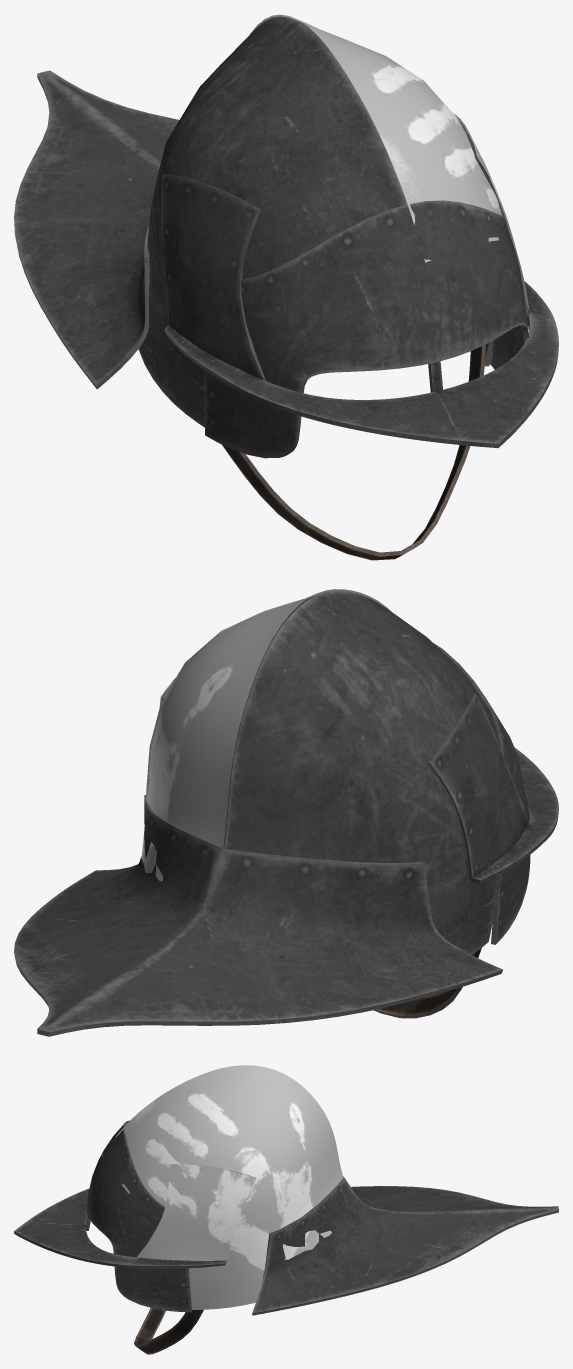
File: sk_uruk_hai_helmet_sapper_a1.fbx
The picture shows the model from 3 angles, top to bottom: view 1: azimuth 30°, elevation 25°; view 2: azimuth 150°, elevation 25°; view 3: azimuth 270°, elevation 25°; orthographic projection. The views are drawn at different scales.
Parts seen in each view (by area): view 1: sk_uruk_hai_helmet_sapper_a1.2, sk_uruk_hai_helmet_sapper_a1.0, sk_uruk_hai_helmet_sapper_a1.1; view 2: sk_uruk_hai_helmet_sapper_a1.2, sk_uruk_hai_helmet_sapper_a1.0, sk_uruk_hai_helmet_sapper_a1.1; view 3: sk_uruk_hai_helmet_sapper_a1.0, sk_uruk_hai_helmet_sapper_a1.2, sk_uruk_hai_helmet_sapper_a1.1.
Boxes of the visible parts, x1=… form: sk_uruk_hai_helmet_sapper_a1.2: x1=14, y1=16, x2=558, y2=458; sk_uruk_hai_helmet_sapper_a1.0: x1=250, y1=14, x2=530, y2=365; sk_uruk_hai_helmet_sapper_a1.1: x1=222, y1=344, x2=485, y2=560; sk_uruk_hai_helmet_sapper_a1.2: x1=14, y1=591, x2=558, y2=1036; sk_uruk_hai_helmet_sapper_a1.0: x1=141, y1=589, x2=392, y2=881; sk_uruk_hai_helmet_sapper_a1.1: x1=373, y1=948, x2=481, y2=1018; sk_uruk_hai_helmet_sapper_a1.0: x1=102, y1=1065, x2=343, y2=1310; sk_uruk_hai_helmet_sapper_a1.2: x1=14, y1=1120, x2=558, y2=1315; sk_uruk_hai_helmet_sapper_a1.1: x1=134, y1=1308, x2=203, y2=1354.
Bounding box in the file's own units: 0.2811 × 0.5446 × 0.3137.
3 materials, 3 textured.
